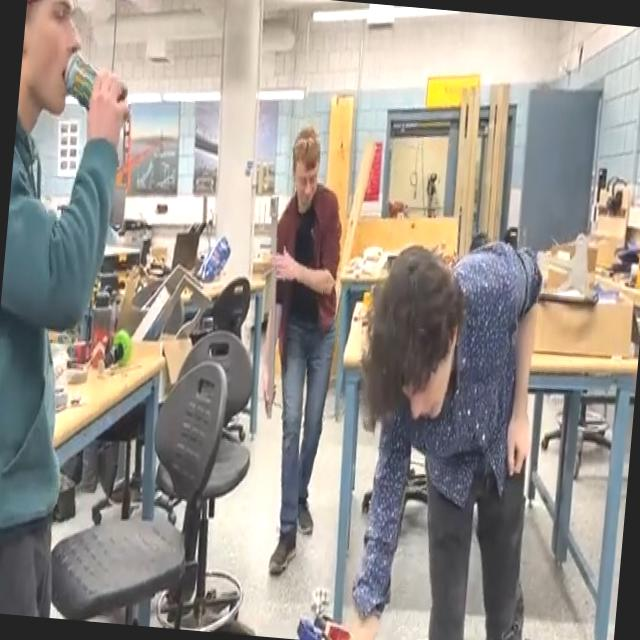note: (318, 614, 355, 640)
